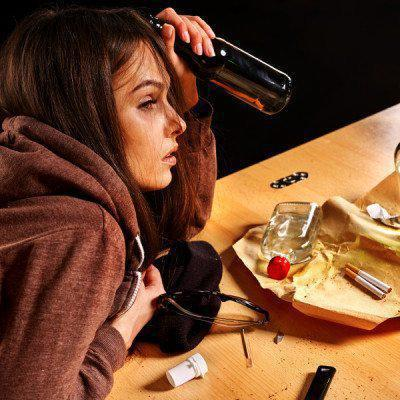Drunk: (124, 53, 187, 187)
